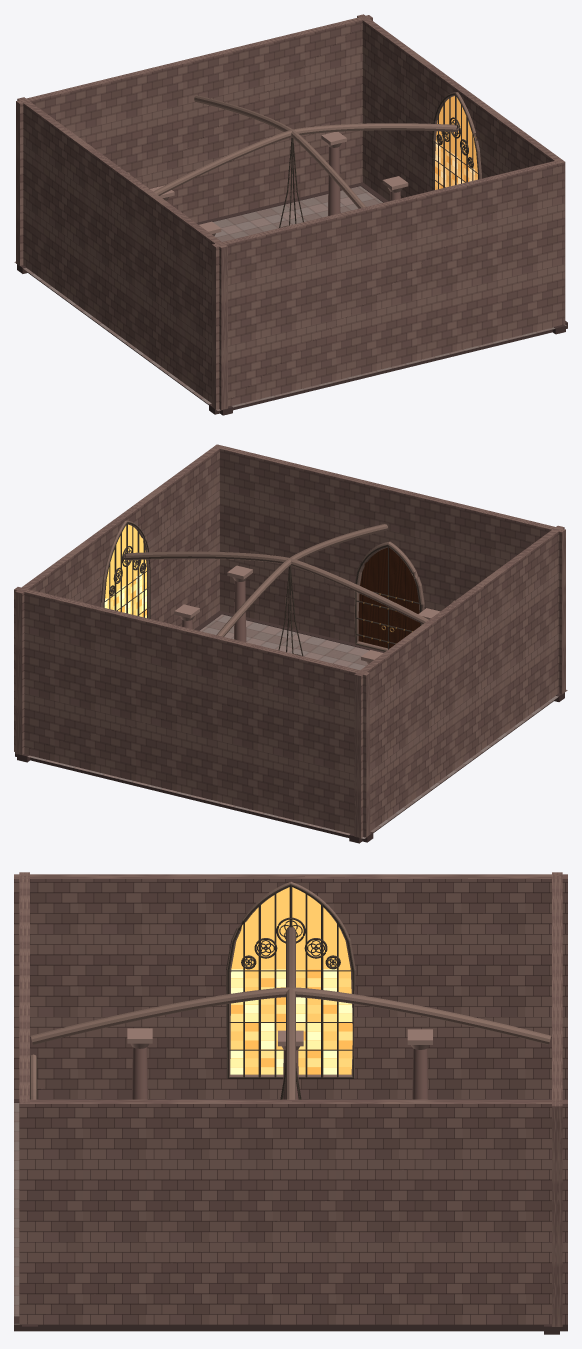
The model's file is katedral.glb.
3 views of the same model, one above another, from view 1: azimuth 30°, elevation 25°; view 2: azimuth 150°, elevation 25°; view 3: azimuth 270°, elevation 25° (orthographic). The views are drawn at different scales.
Parts seen in each view (by area): view 1: Duvar.001, Duvar, Duvar.002, Duvar.003, Taş zemin, Çapraz taş kaburga, Çapraz taş kaburga.001, Pencere_Isik.001, Taban silmesi.001, Gövde.002, Taban silmesi, Sivri taş çerçeve.001; view 2: Duvar, Duvar.001, Duvar.002, Duvar.003, Taş zemin, Kemerli meşe kapı, Çapraz taş kaburga, Çapraz taş kaburga.001, Pencere_Isik.001, Taban silmesi, Kapı taş pervazı, Taban silmesi.001 (+2 smaller); view 3: Duvar.003, Duvar.002, Pencere_Isik, Çapraz taş kaburga.001, Duvar, Taban silmesi.003, Duvar.001, Sivri taş çerçeve, Çapraz taş kaburga, Taş zemin, Pencere demir çerçevesi, Gövde.013 (+1 smaller).
Boxes of the visible parts, left/top/right/bottom form: Duvar.001: left=212, top=161, right=564, bottom=409; Duvar: left=16, top=15, right=372, bottom=265; Duvar.002: left=17, top=97, right=227, bottom=410; Duvar.003: left=357, top=14, right=565, bottom=324; Taş zemin: left=14, top=186, right=566, bottom=410; Çapraz taş kaburga: left=153, top=123, right=459, bottom=195; Çapraz taş kaburga.001: left=194, top=95, right=365, bottom=208; Pencere_Isik.001: left=435, top=96, right=477, bottom=187; Taban silmesi.001: left=209, top=321, right=567, bottom=414; Gövde.002: left=328, top=146, right=340, bottom=215; Taban silmesi: left=17, top=182, right=364, bottom=273; Sivri taş çerçeve.001: left=433, top=92, right=481, bottom=190; Duvar: left=14, top=587, right=370, bottom=837; Duvar.001: left=215, top=444, right=565, bottom=694; Duvar.002: left=354, top=525, right=564, bottom=838; Duvar.003: left=15, top=444, right=222, bottom=754; Taş zemin: left=27, top=614, right=567, bottom=838; Kemerli meşe kapı: left=358, top=547, right=420, bottom=648; Çapraz taş kaburga: left=124, top=551, right=428, bottom=624; Çapraz taş kaburga.001: left=216, top=524, right=387, bottom=636; Pencere_Isik.001: left=105, top=524, right=146, bottom=615; Taban silmesi: left=15, top=752, right=373, bottom=842; Kapı taş pervazı: left=354, top=541, right=424, bottom=651; Taban silmesi.001: left=217, top=610, right=564, bottom=701; Duvar.003: left=19, top=1099, right=567, bottom=1324; Duvar.002: left=14, top=874, right=567, bottom=1098; Pencere_Isik: left=230, top=887, right=352, bottom=1067; Çapraz taş kaburga.001: left=31, top=987, right=550, bottom=1044; Duvar: left=552, top=872, right=562, bottom=1326; Taban silmesi.003: left=14, top=1316, right=567, bottom=1331; Duvar.001: left=19, top=872, right=29, bottom=1323; Sivri taş çerçeve: left=226, top=881, right=355, bottom=1078; Çapraz taş kaburga: left=286, top=927, right=295, bottom=1099; Taş zemin: left=14, top=1103, right=19, bottom=1324; Pencere demir çerçevesi: left=227, top=884, right=354, bottom=1078; Gövde.013: left=132, top=1047, right=147, bottom=1099.
Bounding box in the file's own units: 72.8 × 33.33 × 72.8.
Materials: 20 (7 with a texture image).
